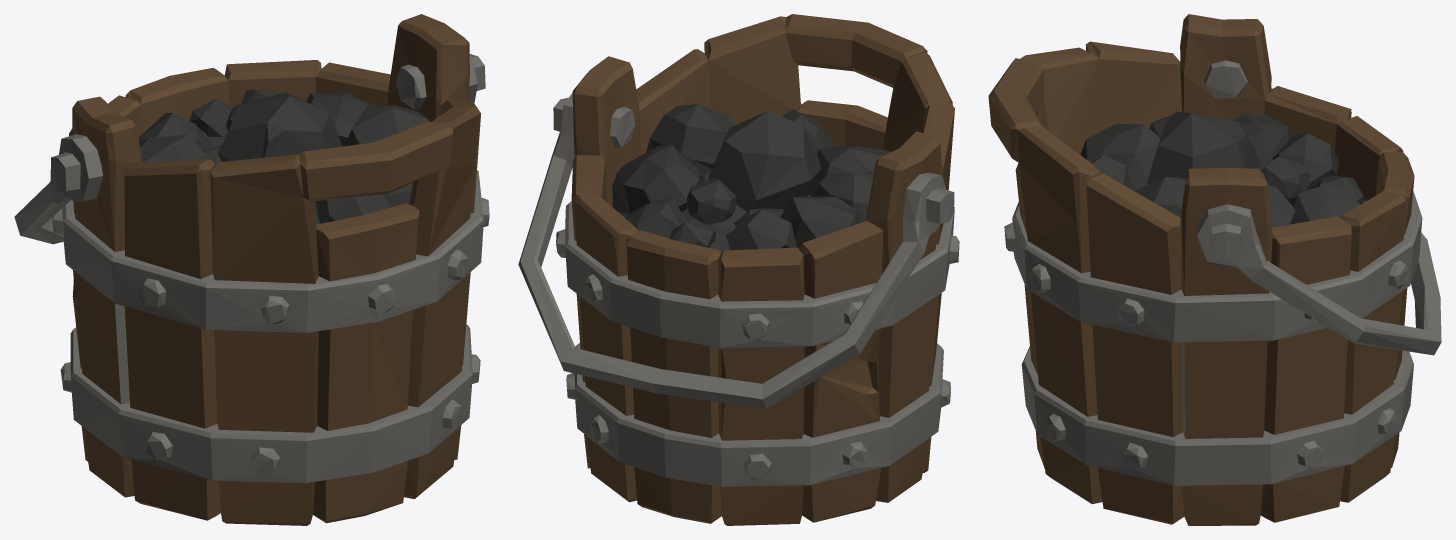
File: CoalScuttle.fbx
3 views of the same model, side by side, from view 1: azimuth 30°, elevation 25°; view 2: azimuth 150°, elevation 25°; view 3: azimuth 270°, elevation 25° (orthographic). The views are drawn at different scales.
Visible parts, largest first — view 1: CoalScuttle_Main, CoalScuttle_Part1; view 2: CoalScuttle_Main, CoalScuttle_Part1; view 3: CoalScuttle_Main, CoalScuttle_Part1.
Boxes of the visible parts, x1,y1,x2,y2 form: CoalScuttle_Main: [50, 14, 489, 525]; CoalScuttle_Part1: [14, 56, 477, 244]; CoalScuttle_Main: [553, 14, 959, 525]; CoalScuttle_Part1: [518, 93, 946, 408]; CoalScuttle_Main: [988, 14, 1422, 525]; CoalScuttle_Part1: [1196, 88, 1441, 355].
Size of the model in its own units: 0.4987 by 0.4904 by 0.4321.
